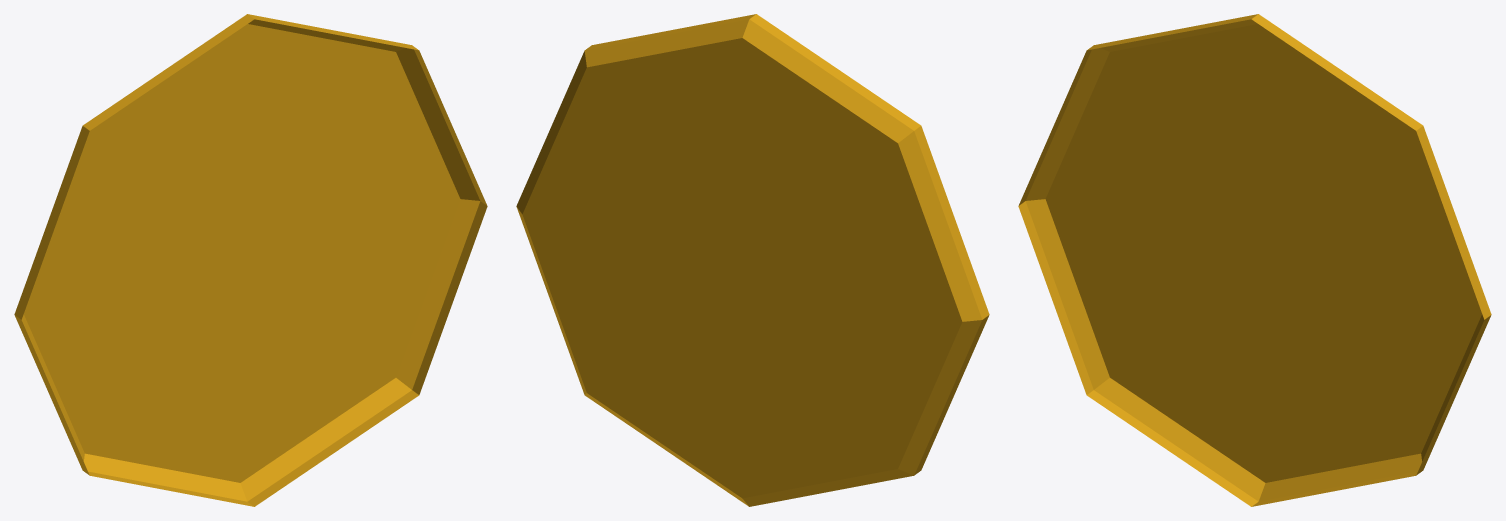
The model's file is suigen_huta.fbx.
The picture shows the model from 3 angles, left to right: view 1: azimuth 30°, elevation 25°; view 2: azimuth 150°, elevation 25°; view 3: azimuth 330°, elevation 25°; orthographic projection.
Parts seen in each view (by area): view 1: polySurface4; view 2: polySurface4; view 3: polySurface4.
Boxes of the visible parts, x1,y1,x2,y2 form: polySurface4: [14, 14, 487, 506]; polySurface4: [516, 14, 989, 506]; polySurface4: [1018, 14, 1491, 506].
Size of the model in its own units: 0.5345 by 0.5345 by 0.0281.
